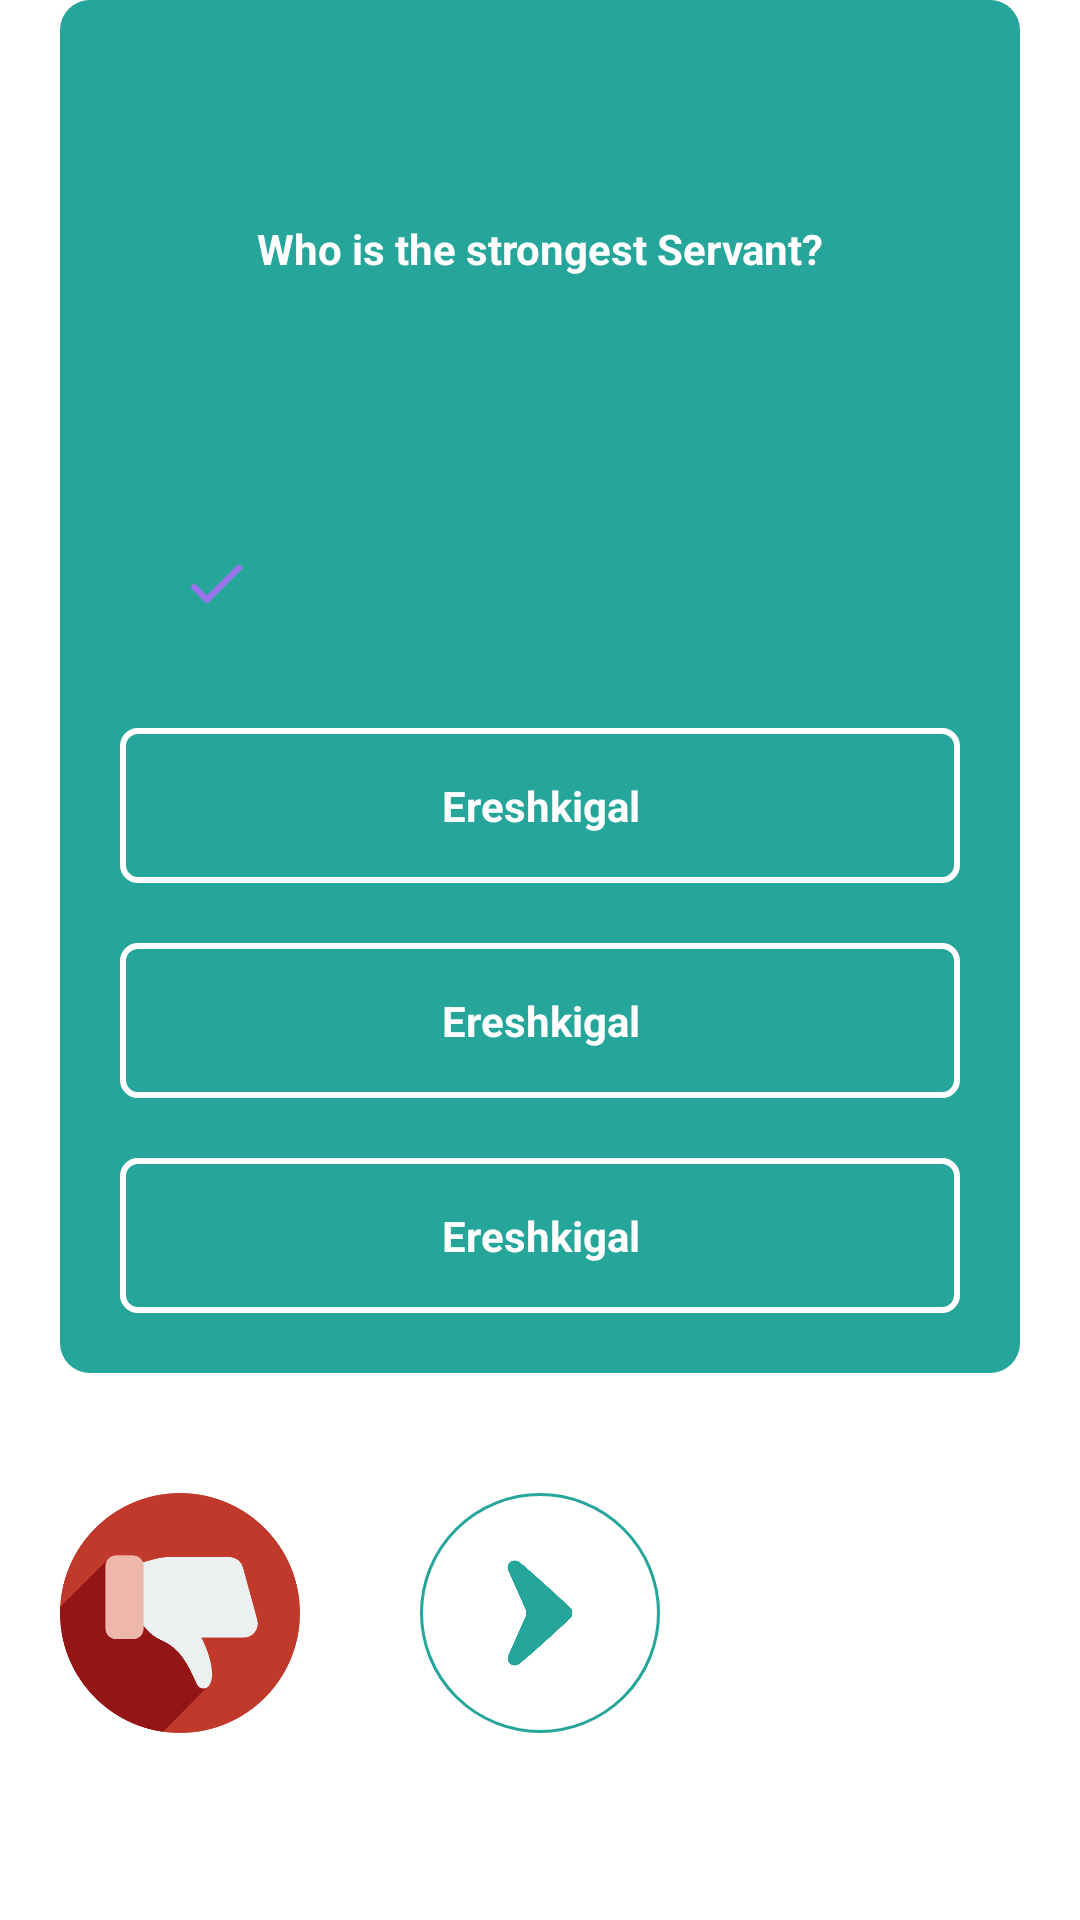

Icons on this 1080×1920 Android screen, each with the point to tap as point (x, y):
dislike: point (180, 1613)
right arrow: point (540, 1613)
